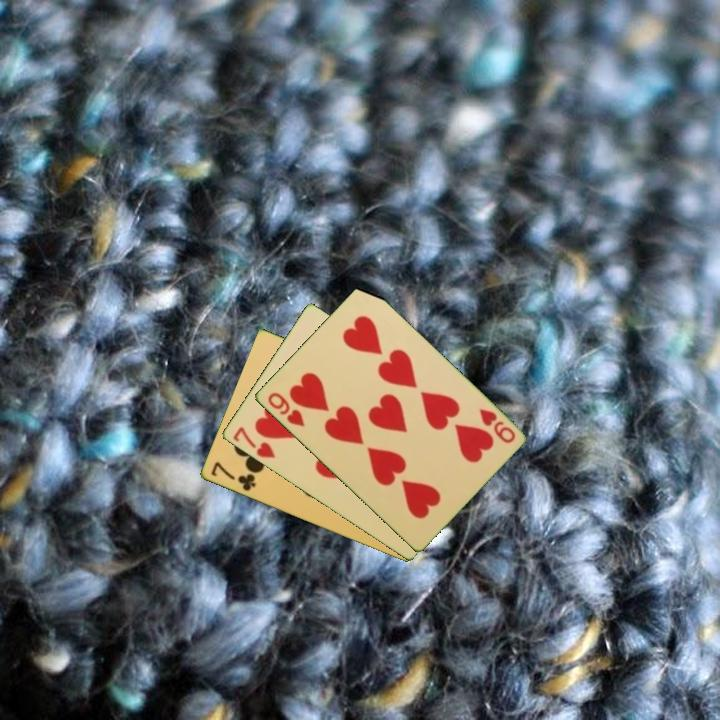7c: (207, 458, 258, 494)
7h: (229, 423, 278, 461)
9h: (264, 389, 307, 430), (475, 405, 518, 446)
